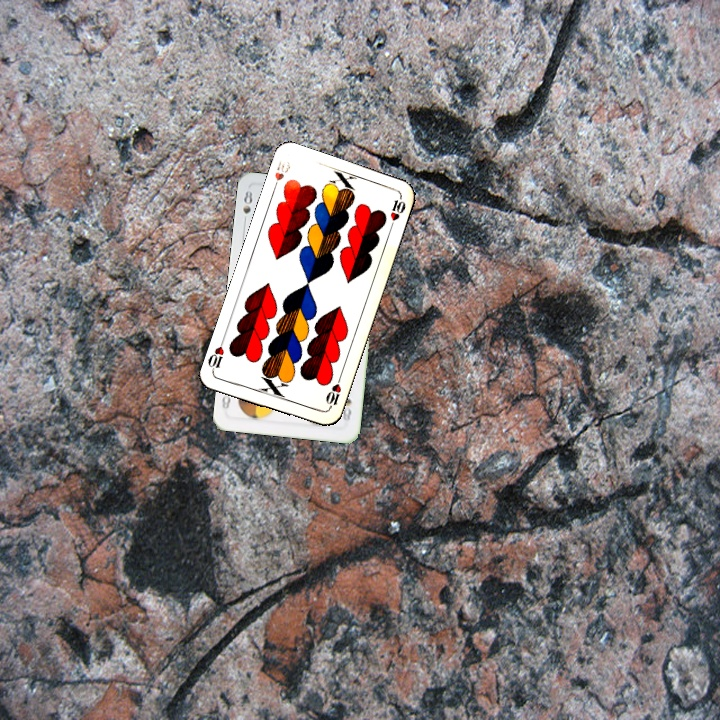H10: (268, 156, 293, 194), (322, 373, 344, 413)
S8: (238, 187, 255, 227), (338, 394, 354, 424)
